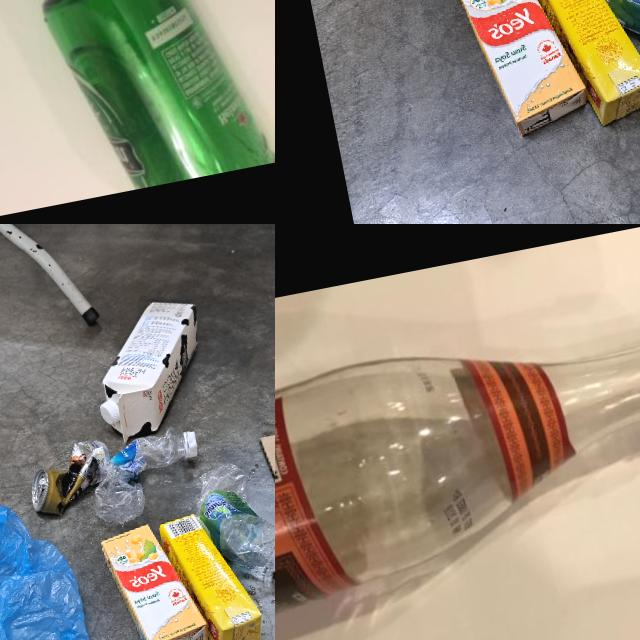aba de lata: (32, 483, 45, 503)
caixinha: (446, 0, 594, 146), (90, 293, 219, 444), (522, 0, 640, 136), (158, 505, 268, 640), (99, 516, 214, 640)
garrafa de vidro: (275, 287, 640, 638), (33, 0, 275, 201)
garrafa plástica: (82, 425, 198, 528), (191, 455, 275, 582)
lata: (23, 436, 119, 518)
sacola plástica: (0, 493, 113, 640)
tampa plástica: (183, 430, 200, 458)
